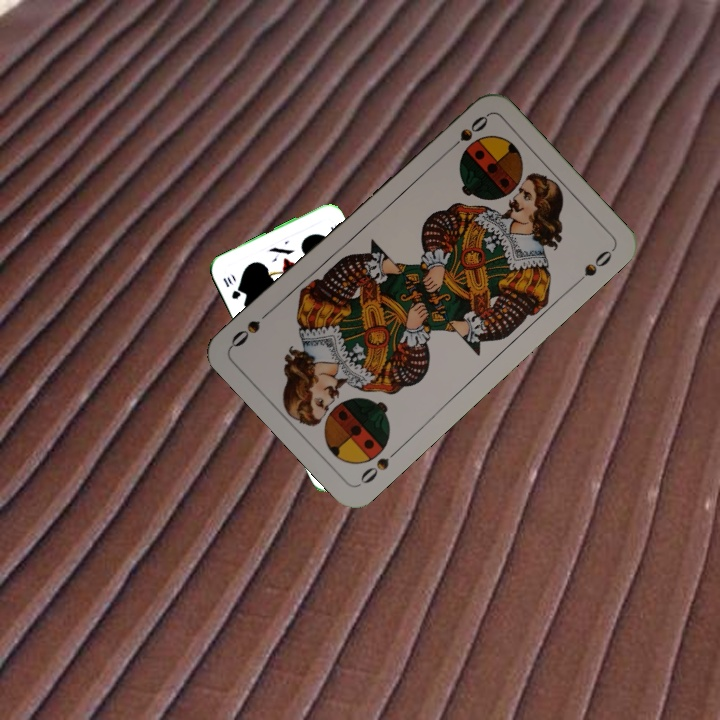G10: (219, 273, 243, 302)
SO: (443, 111, 491, 155), (356, 443, 403, 487)
